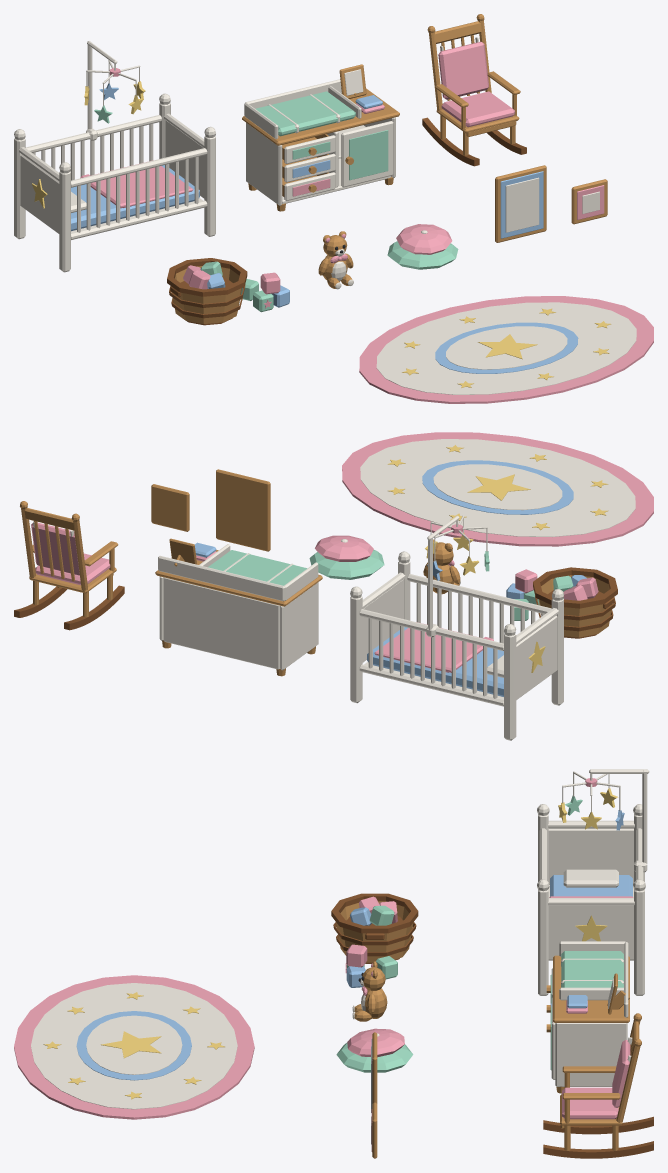
Rendered from pastel-nursery-set.glb.
3 views of the same model, one above another, from view 1: azimuth 30°, elevation 25°; view 2: azimuth 150°, elevation 25°; view 3: azimuth 270°, elevation 25° (orthographic). The views are drawn at different scales.
Parts seen in each view (by area): view 1: Rug_Field, Crib, Rug_Border, Rug_Center, CT_Pad, Chair_BackCushion, CT_SideL, Crib_HeadBoard, Rug_Ring, PictureFrame_Large_Blank, Door_Inset, Crib_Mattress (+23 smaller); view 2: Rug_Field, Crib, CT_Back, Rug_Border, Rug_Center, PictureFrame_Large_Border, CT_SideL, Crib_HeadBoard, CT_GuardBack, Rug_Ring, CT_Pad, Crib_Mattress (+25 smaller); view 3: Rug_Field, Rug_Border, Rug_Center, Crib_HeadBoard, CT_SideR, Crib, Crib_FootBoard, CT_Pad, Rug_Ring, CT_Top, Basket_Rim, Basket_Wall (+16 smaller).
Boxes of the visible parts, bbox=[...] form: Rug_Field: bbox=[376, 302, 636, 394]; Crib: bbox=[14, 93, 215, 272]; Rug_Border: bbox=[359, 296, 653, 403]; Rug_Center: bbox=[446, 326, 567, 369]; CT_Pad: bbox=[255, 91, 355, 136]; Chair_BackCushion: bbox=[438, 41, 488, 99]; CT_SideL: bbox=[246, 123, 282, 205]; Crib_HeadBoard: bbox=[20, 154, 59, 233]; Rug_Ring: bbox=[435, 322, 578, 373]; PictureFrame_Large_Blank: bbox=[505, 177, 539, 232]; Door_Inset: bbox=[349, 130, 388, 180]; Crib_Mattress: bbox=[71, 165, 199, 231]; Rug_Field: bbox=[360, 439, 635, 537]; Crib: bbox=[350, 551, 564, 740]; CT_Back: bbox=[163, 577, 280, 669]; Rug_Border: bbox=[342, 432, 653, 546]; Rug_Center: bbox=[433, 464, 562, 510]; PictureFrame_Large_Border: bbox=[216, 469, 270, 551]; CT_SideL: bbox=[280, 582, 318, 670]; Crib_HeadBoard: bbox=[516, 615, 557, 699]; CT_GuardBack: bbox=[158, 555, 284, 601]; Rug_Ring: bbox=[422, 460, 573, 514]; CT_Pad: bbox=[208, 550, 307, 585]; Crib_Mattress: bbox=[367, 627, 503, 696]; Rug_Field: bbox=[31, 983, 237, 1109]; Rug_Border: bbox=[14, 975, 254, 1119]; Rug_Center: bbox=[86, 1015, 182, 1074]; Crib_HeadBoard: bbox=[548, 828, 633, 884]; CT_SideR: bbox=[555, 1023, 627, 1086]; Crib: bbox=[537, 804, 645, 995]; Crib_FootBoard: bbox=[548, 905, 633, 959]; CT_Pad: bbox=[561, 951, 623, 987]; Rug_Ring: bbox=[76, 1011, 191, 1080]; CT_Top: bbox=[553, 955, 629, 1022]; Basket_Rim: bbox=[331, 893, 418, 933]; Basket_Wall: bbox=[336, 901, 413, 962].
Bounding box in the file's own units: 23.99 × 8.6 × 26.6.
